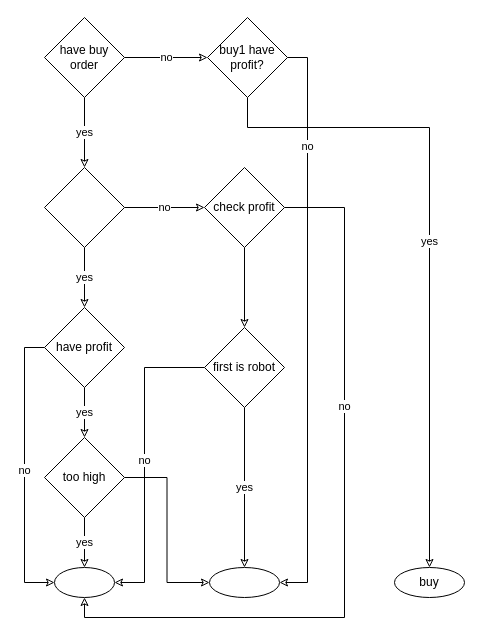
Image size: 482x643. Some labels were removed from this diagram. The centre of each missing label's shape, as x and y in pixels:
"cancel" belongs at pixel 84 582.
"none" belongs at pixel 244 582.
"you are the first" belongs at pixel 84 207.
